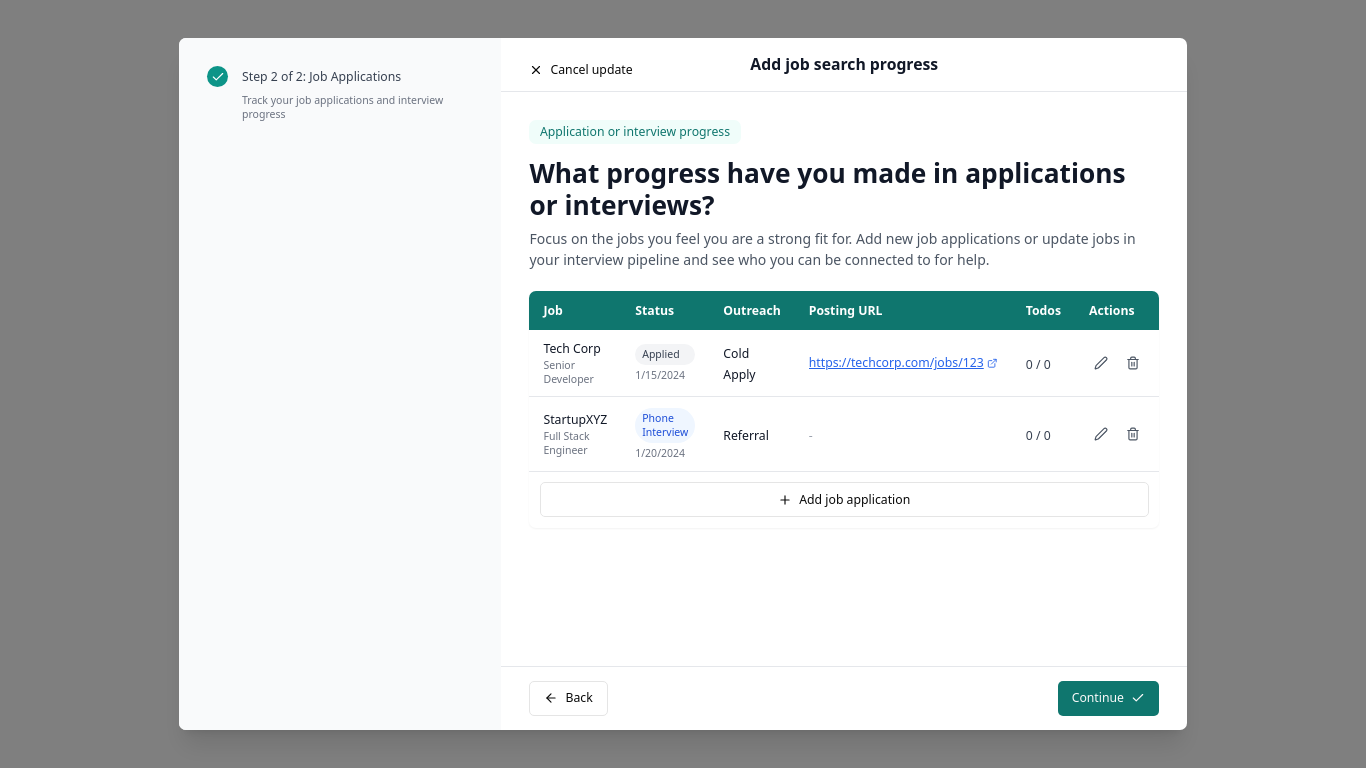
AppliedToJobsStep › Table View › should handle edit button click
Click the button named "Edit" in the row of "Tech Corp".
click(1101, 363)  # box [1089,351,1114,375]
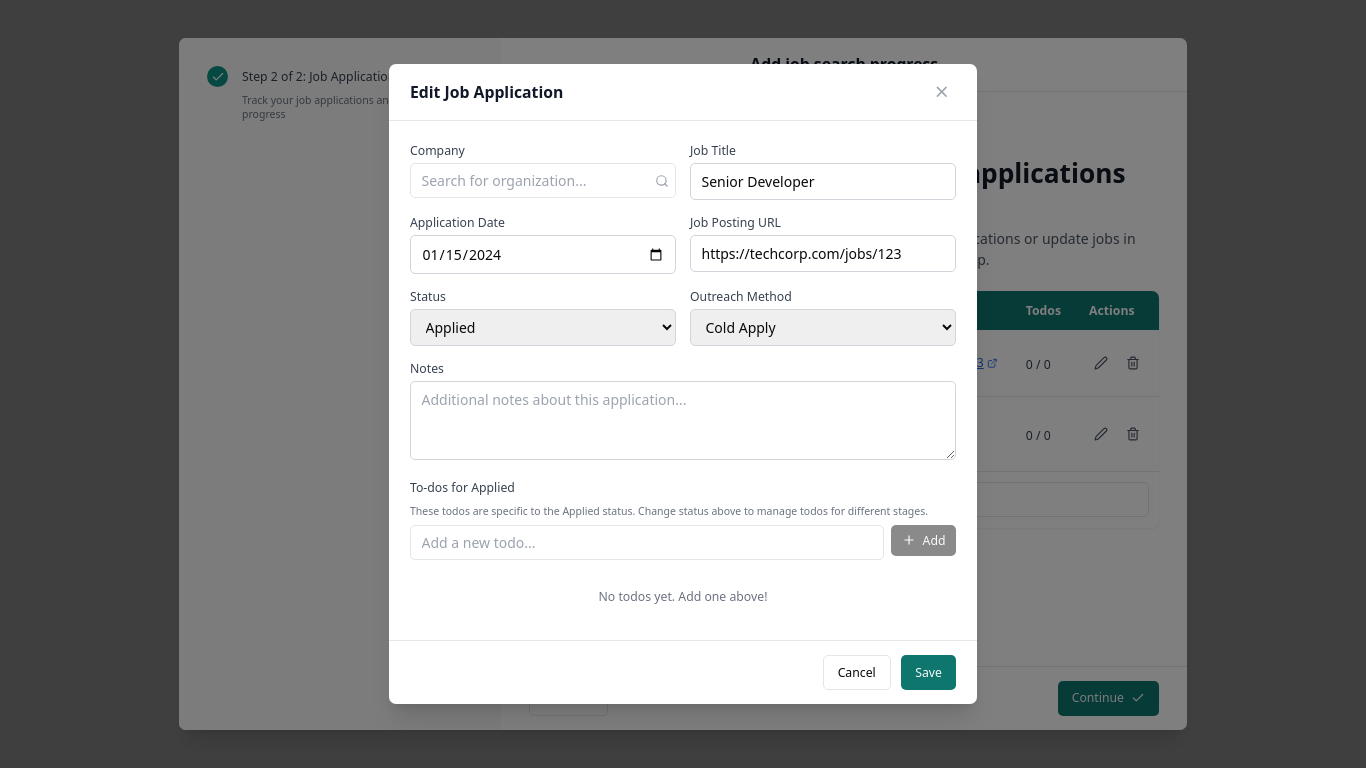
Now the heading "Edit Job Application" is shown, box [410,80,563,104]
Now the field showing "Senior Developer" is shown, box [690,163,956,200]
